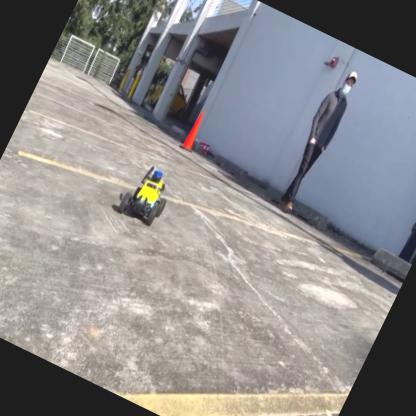cone: (176, 105, 212, 156)
mushr_car: (114, 160, 180, 232)
